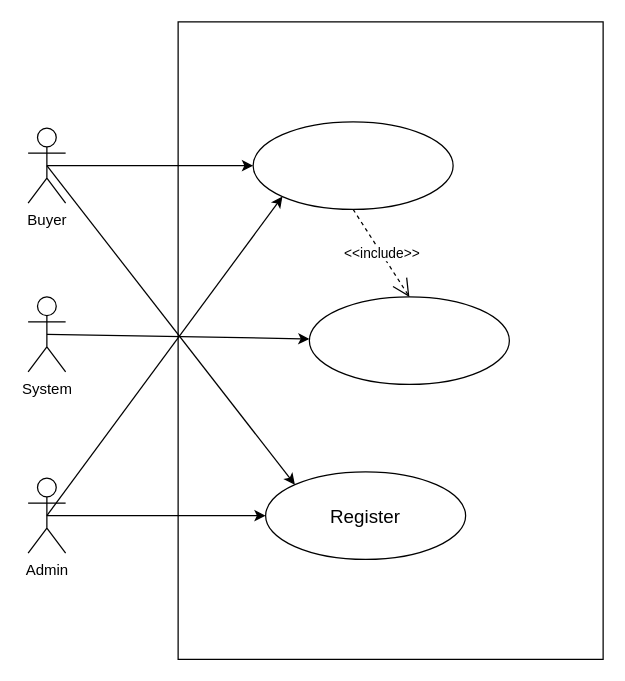
The diagram is 625 pixels wide and 681 high, and some of its shapes have lost their labels. Each missing label, with the centre of its shape:
Login: the point at 352,165
Verify Permission: the point at 408,340
